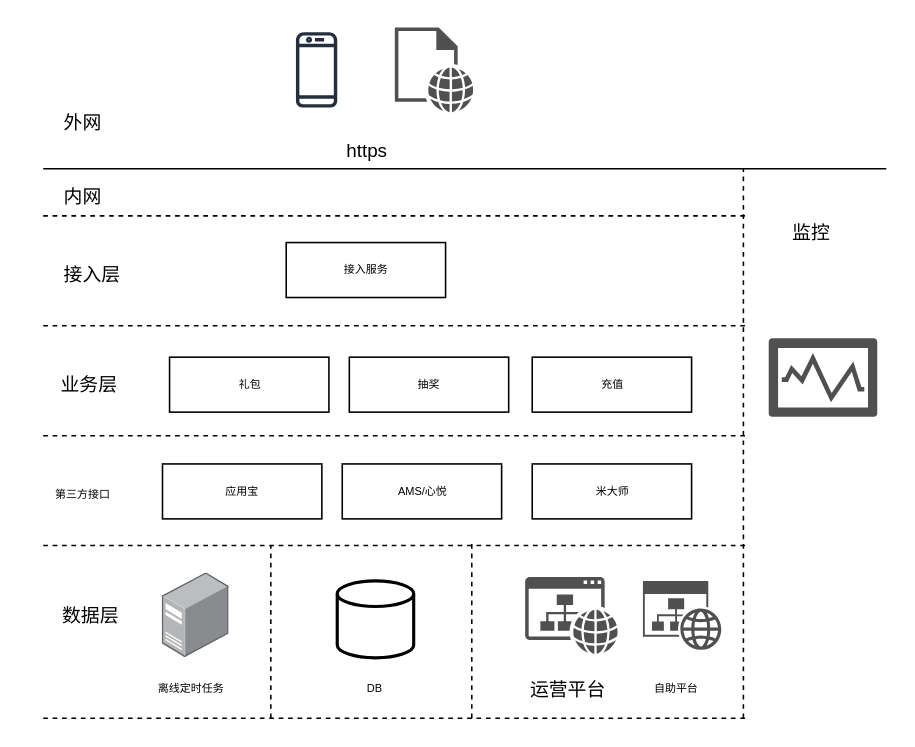
This 915x747 diagram has some shape labels left out. The centre of each missing label's shape, as x and y in pixels:
"tcaplus" goes at (374,619).
"夸克/mo" goes at (822,377).
